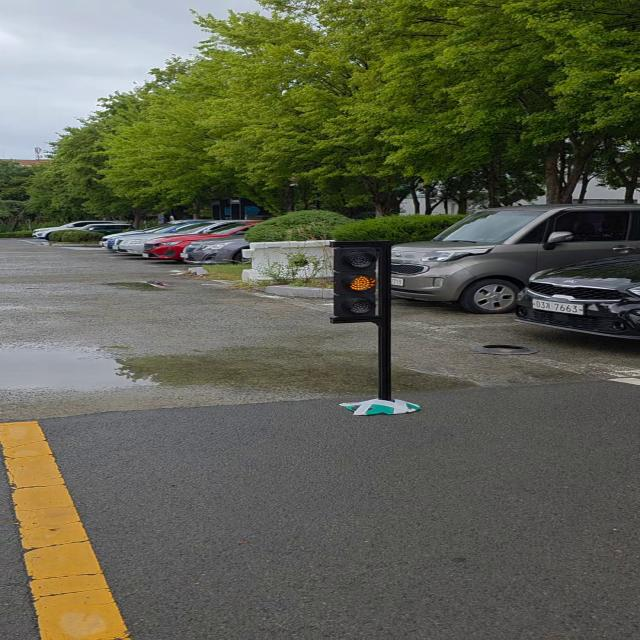yellow: (333, 240, 390, 320)
